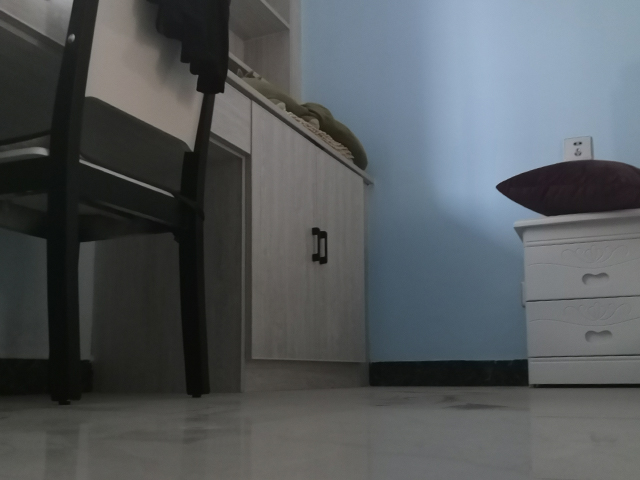cabinet: (243, 87, 372, 385), (510, 209, 640, 391)
stool: (1, 1, 230, 405)
